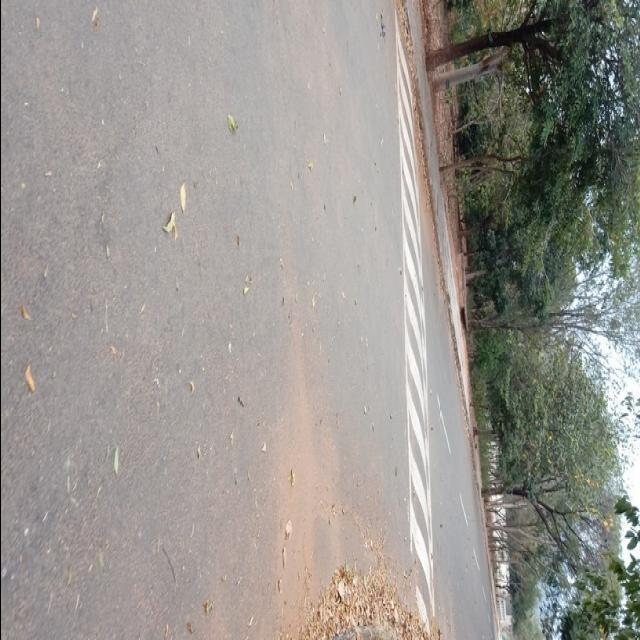speedbreaker: (399, 53, 421, 640)
